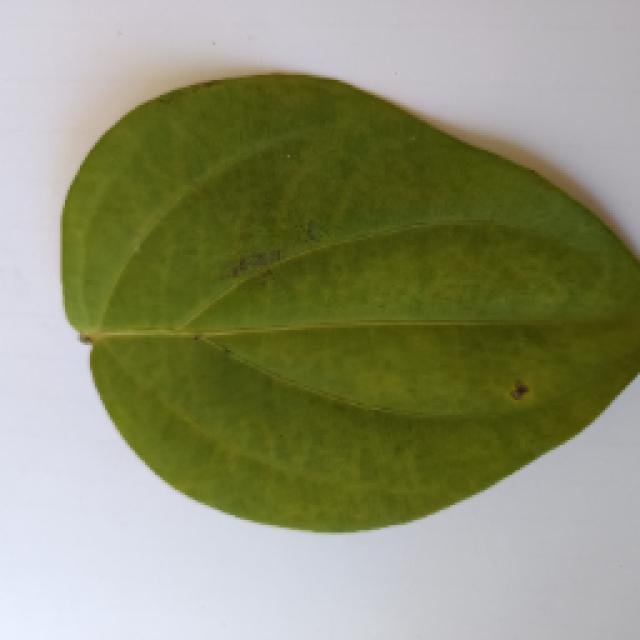slow-decline: (50, 75, 632, 537)
